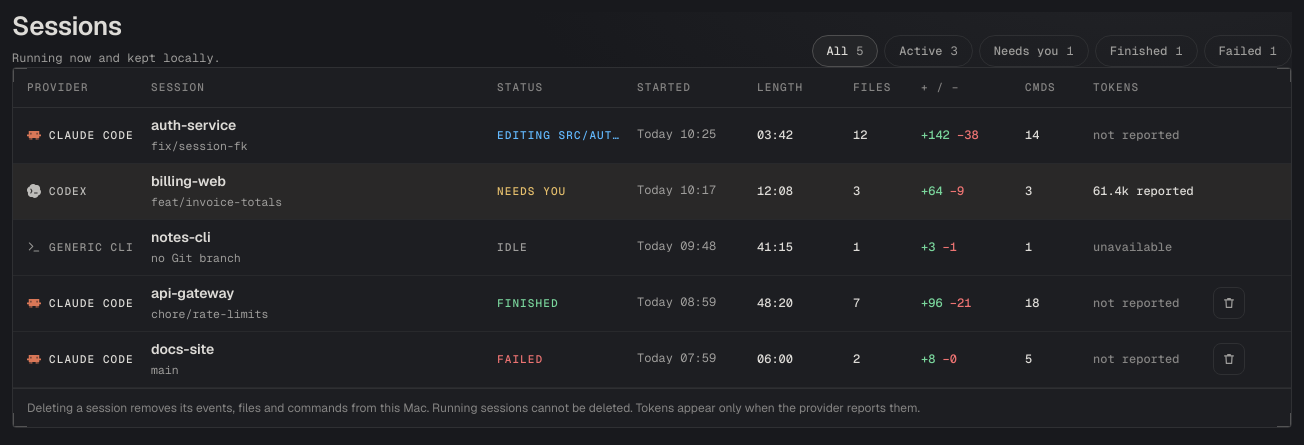
Test: Sessions page › deletes through the daemon command and drops the row when the removed frame arrives
Click the button named "Delete session api-gateway".
click(1229, 303)  # box [1213,287,1245,319]
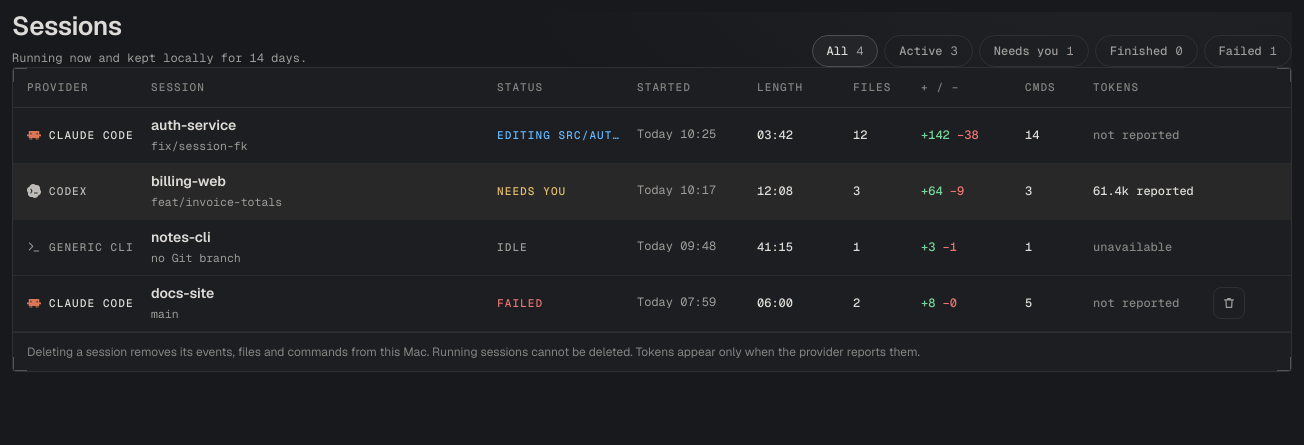
Expected: the link "billing-web" is shown, [151,172,226,190]
Now the button "All 4" is shown, box [812,35,878,67]
Now the button "Finished 0" is shown, box [1095,35,1198,67]
